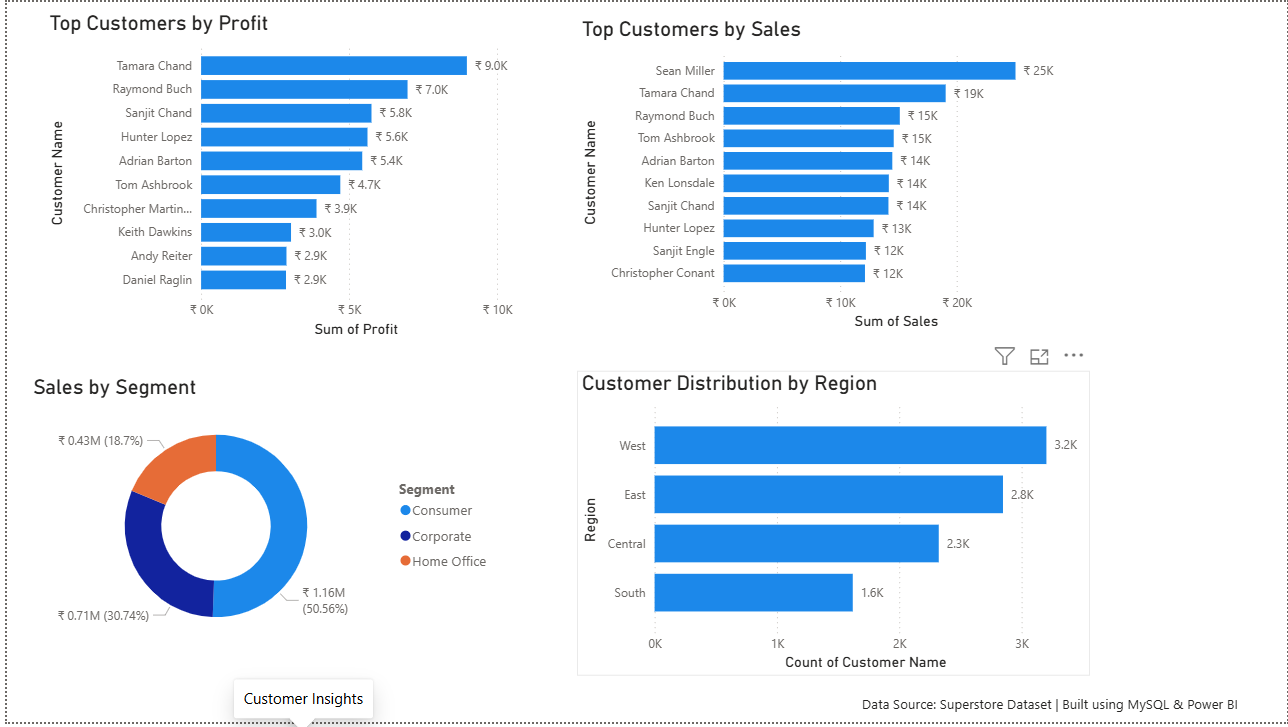

This screenshot's page, from the dashboard's own definition file:
{"tool":"powerbi","page":{"name":"Customer Insights","canvas":[1280,720],"ordinal":1},"visuals":[{"type":"clusteredBarChart","title":"Top Customers by Profit","fields":{"Category":["ecommerce_sales superstore.Customer Name"],"Y":["Sum(ecommerce_sales superstore.Profit)"]},"box":[37.1,8.6,487.1,331.4],"z":0},{"type":"donutChart","title":" Sales by Segment","fields":{"Category":["ecommerce_sales superstore.Segment"],"Y":["Sum(ecommerce_sales superstore.Sales)"]},"box":[21.4,372.9,472.9,280],"z":1000},{"type":"clusteredBarChart","title":"Customer Distribution by Region","fields":{"Category":["ecommerce_sales superstore.Region"],"Y":["CountNonNull(ecommerce_sales superstore.Customer Name)"]},"box":[570,368.8,512.5,305],"z":2000},{"type":"clusteredBarChart","title":"Top  Customers by Sales","fields":{"Category":["ecommerce_sales superstore.Customer Name"],"Y":["Sum(ecommerce_sales superstore.Sales)"]},"box":[570,15,512.5,317.5],"z":2001},{"type":"textbox","box":[850,687.5,430,32.5],"z":2002}]}

Visuals, with their boxes in screenshot pixels (x1, y1, x2, y2), scaled from the page's 1280x720 canvas onto the 1288x727 screenshot:
"Top Customers by Profit" clusteredBarChart: 37, 9, 527, 343
" Sales by Segment" donutChart: 22, 377, 497, 659
"Customer Distribution by Region" clusteredBarChart: 574, 372, 1089, 680
"Top  Customers by Sales" clusteredBarChart: 574, 15, 1089, 336
textbox: 855, 694, 1287, 726
